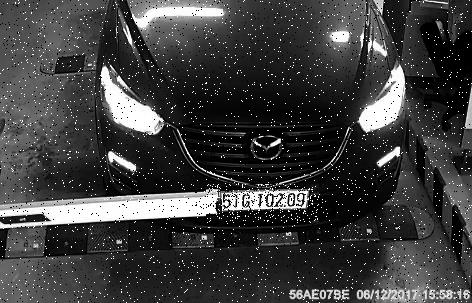License-plate: (207, 186, 320, 225)
